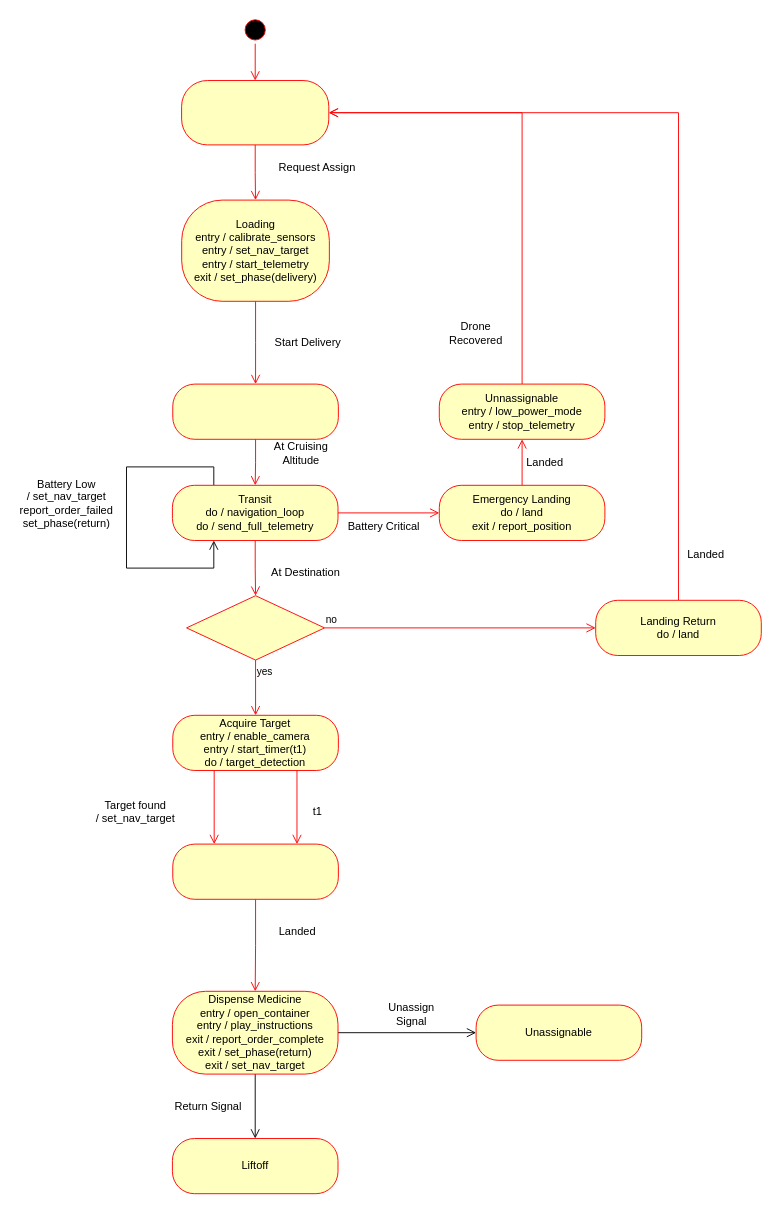
The diagram is 777 pixels wide and 1210 high, and some of its shapes have lost their labels. Each missing label, with the box of its shape:
Idle entry / stop_telemetry: (181, 80, 329, 145)
Land do / land do / play_noise: (172, 843, 338, 899)
Liftoff do / ascend_to_cruise_height: (172, 383, 338, 439)
phase == delivery: (186, 595, 325, 660)
